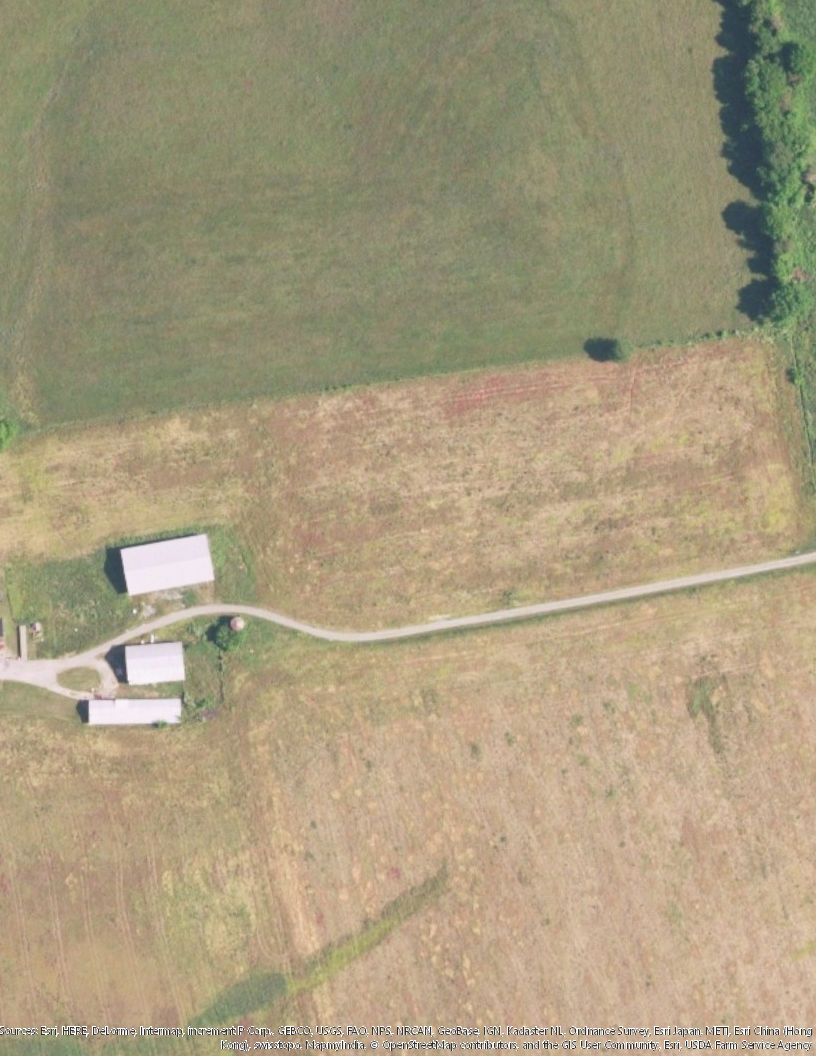cafo: (114, 531, 220, 596), (121, 636, 195, 690), (87, 694, 192, 730)
